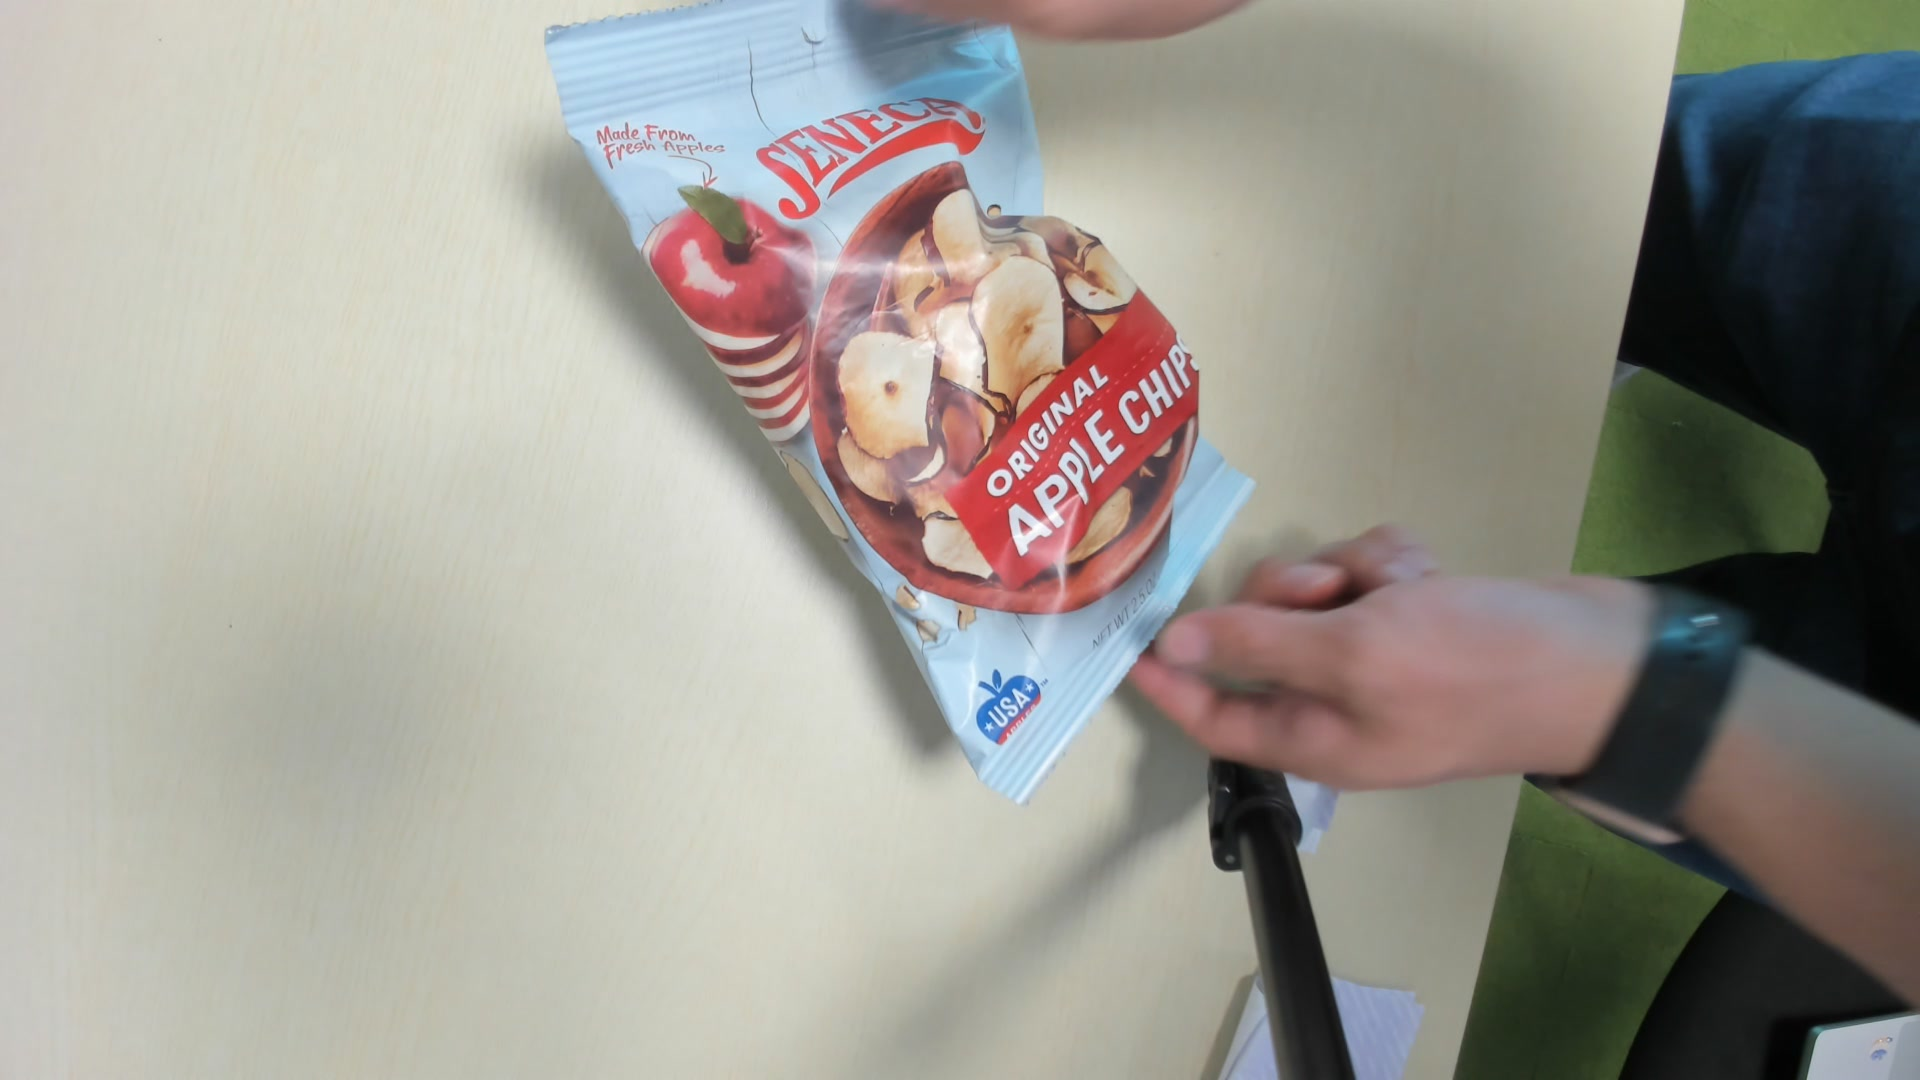PotatoChipsKeropok_0-99g_NonHalal_NonHealthy: (554, 3, 1240, 787)
